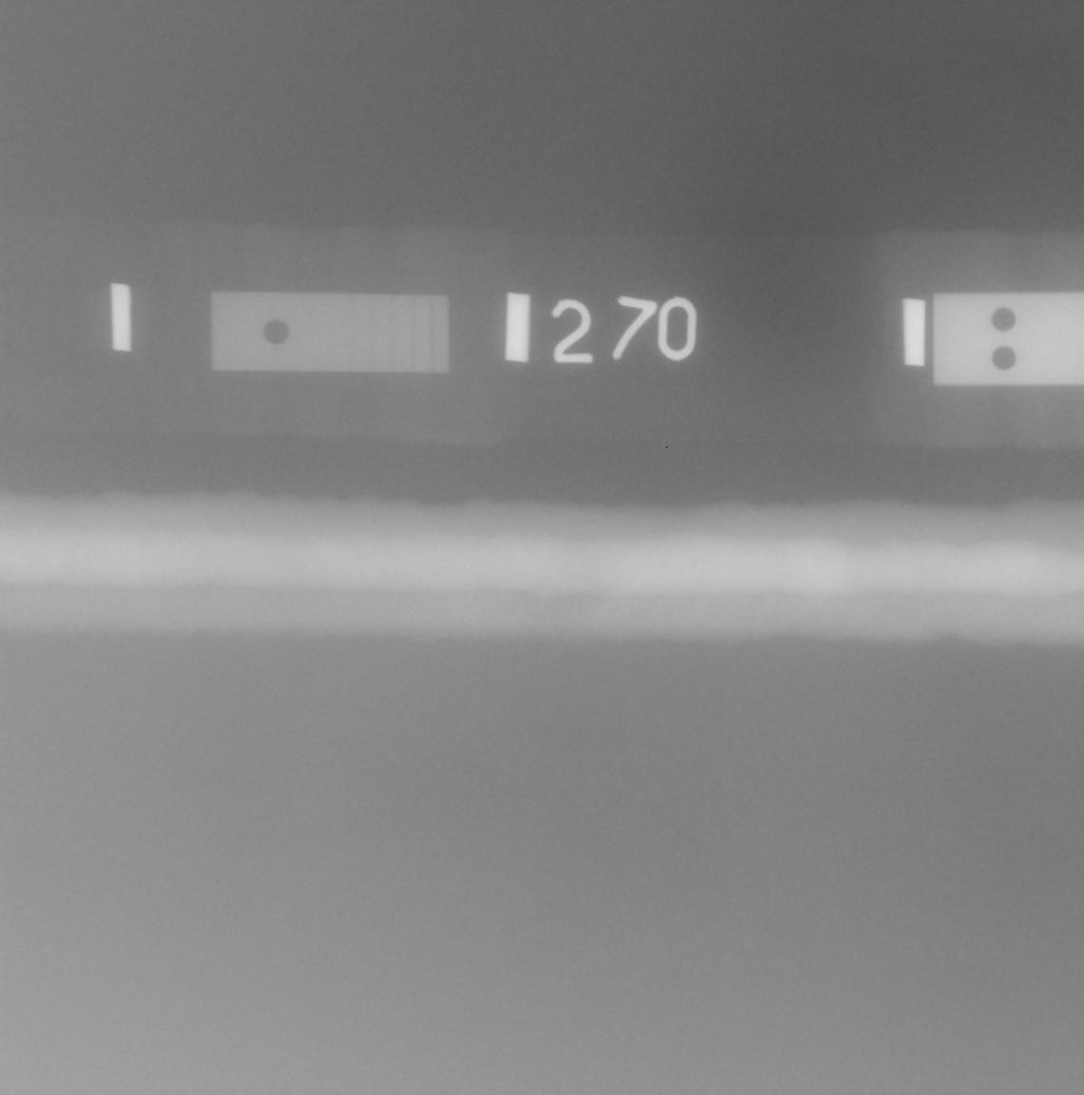Reference Standard 1: (211, 292, 449, 373)
